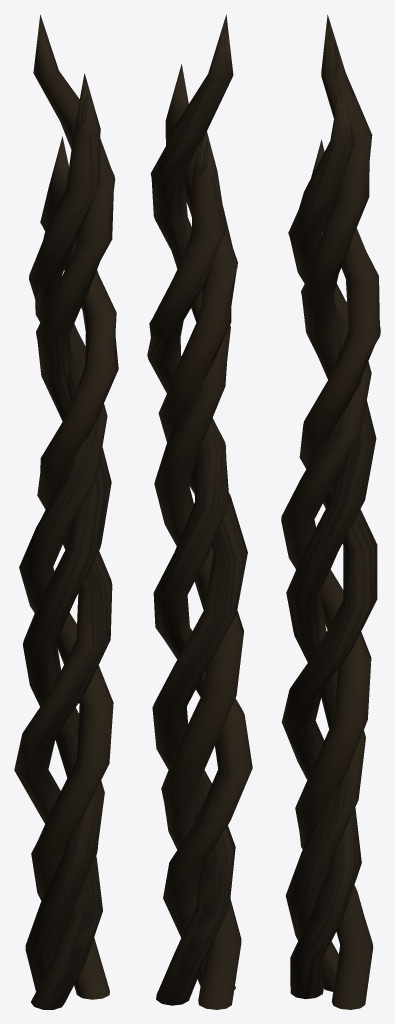
Rendered from raices enroscadas.fbx.
The picture shows the model from 3 angles, left to right: view 1: azimuth 30°, elevation 25°; view 2: azimuth 210°, elevation 25°; view 3: azimuth 330°, elevation 25°; orthographic projection.
Parts seen in each view (by area): view 1: pHelix2, pHelix1, pHelix3; view 2: pHelix2, pHelix3, pHelix1; view 3: pHelix2, pHelix1, pHelix3.
Part boxes in pixels (x1,y1,x2,y2): pHelix2: [23, 15, 115, 990]; pHelix1: [19, 73, 113, 999]; pHelix3: [14, 136, 118, 1009]; pHelix2: [150, 14, 243, 1009]; pHelix3: [147, 131, 252, 989]; pHelix1: [152, 64, 247, 1005]; pHelix2: [285, 15, 376, 991]; pHelix1: [281, 86, 373, 1009]; pHelix3: [281, 139, 380, 999].
Bounding box in the file's own units: 5.85 × 58.88 × 4.63.
